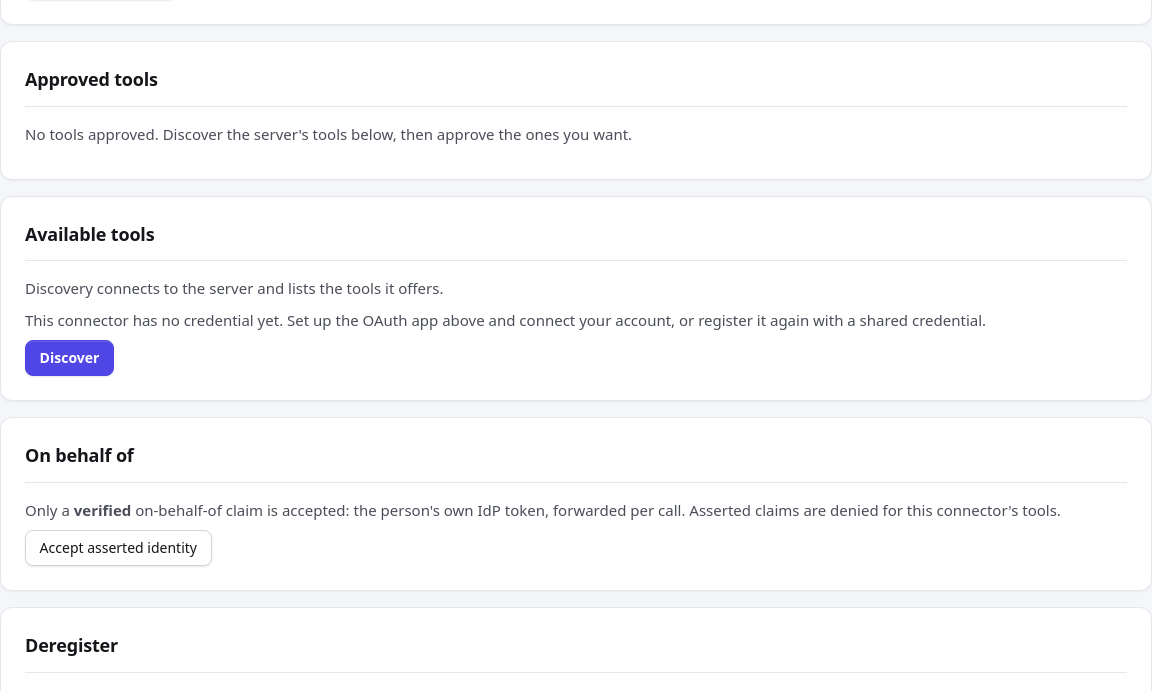
it: looking at the server › renders a server that did not answer as the transport's own sentence
(page scrolled)
Click the button "Discover" at (70, 358), box [25,340,114,376]
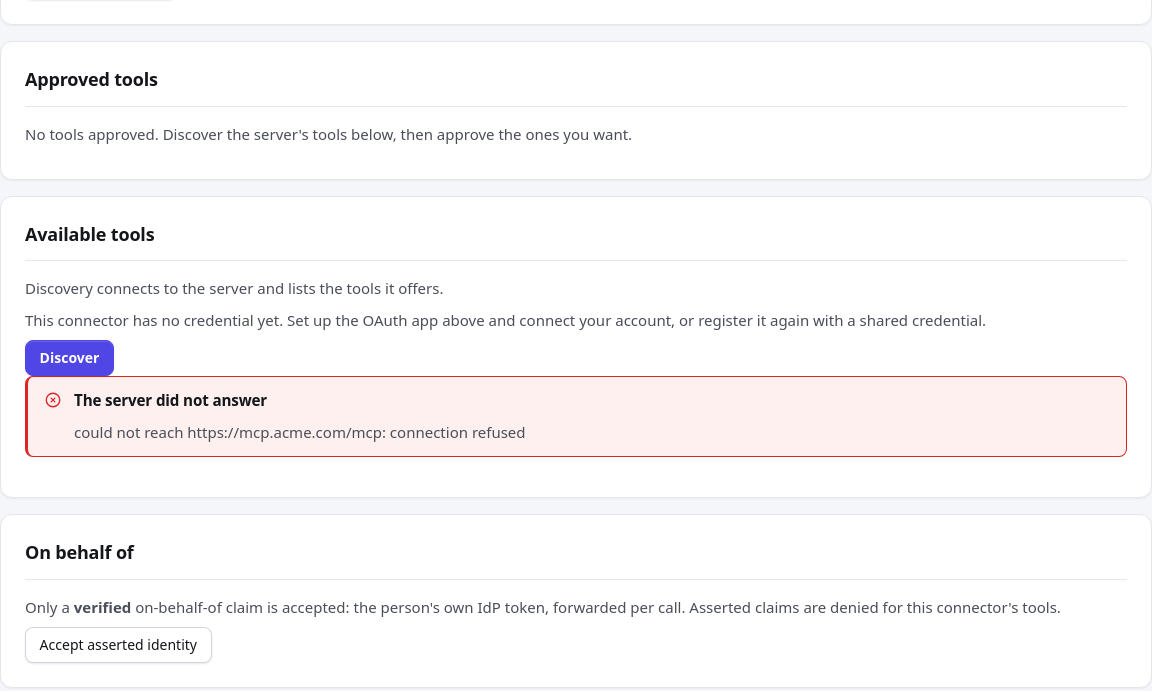
expect the text "could not reach https://mcp.acme.com/mcp: connection refused" is shown: met, box [74,422,526,442]
